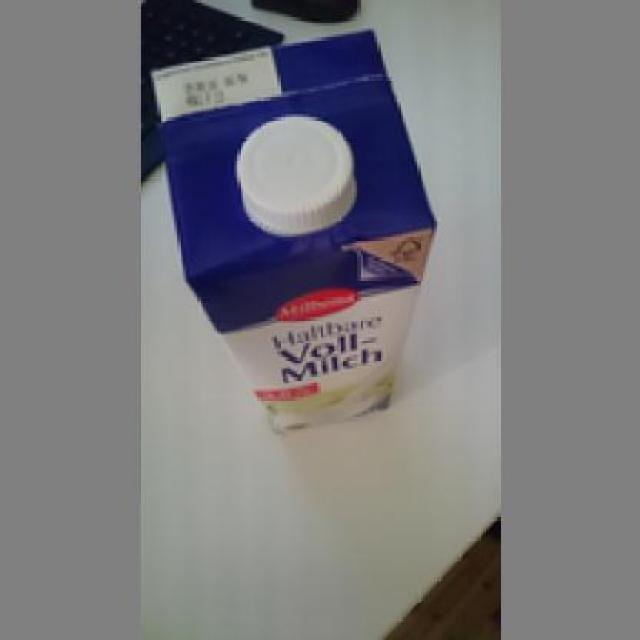Milk: (137, 25, 454, 458)
